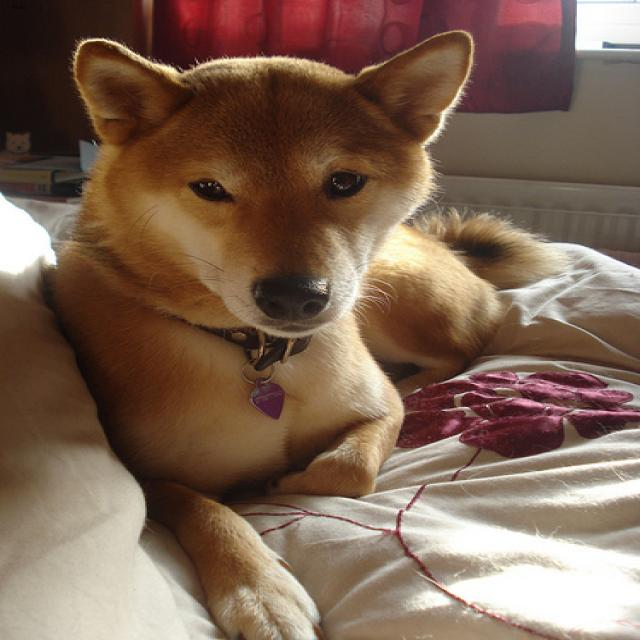dog-shiba_inu: (31, 24, 577, 637)
